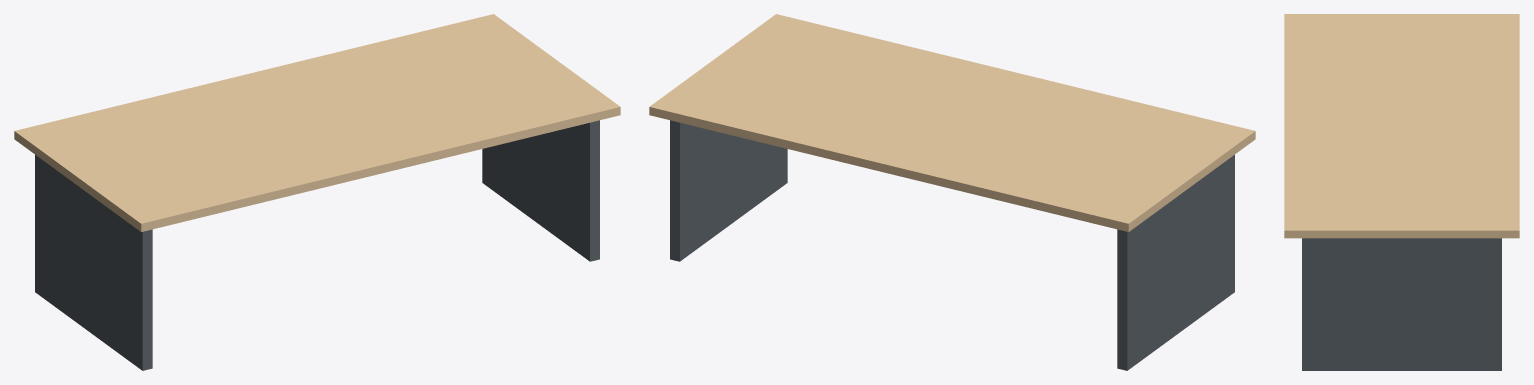
Rendered from meeting_rooms___private_spaces_catalog_05.glb.
3 views of the same model, side by side, from view 1: azimuth 30°, elevation 25°; view 2: azimuth 150°, elevation 25°; view 3: azimuth 270°, elevation 25° (orthographic). The views are drawn at different scales.
Visible parts, largest first — view 1: Cube; view 2: Cube; view 3: Cube.
Part boxes in pixels (<box>): Cube: <box>14,14,620,370</box>; Cube: <box>649,14,1255,370</box>; Cube: <box>1284,14,1519,370</box>.
Bounding box in the file's own units: 2.4 × 0.75 × 1.1.
